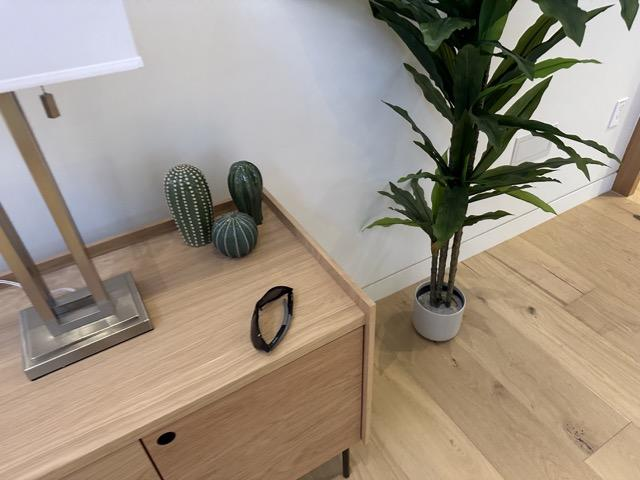Sunglasses: (250, 284, 294, 354)
